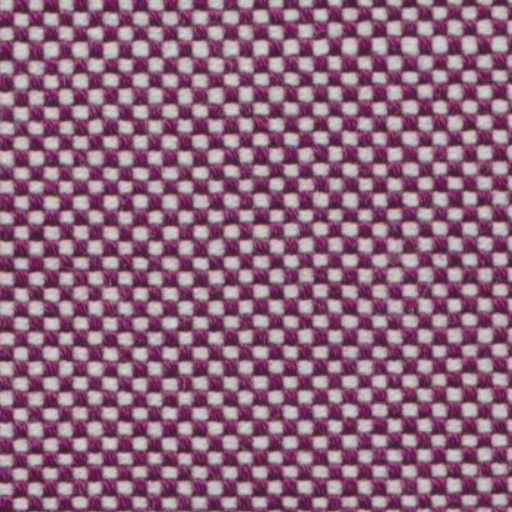TuoSha: (16, 26, 494, 66)
